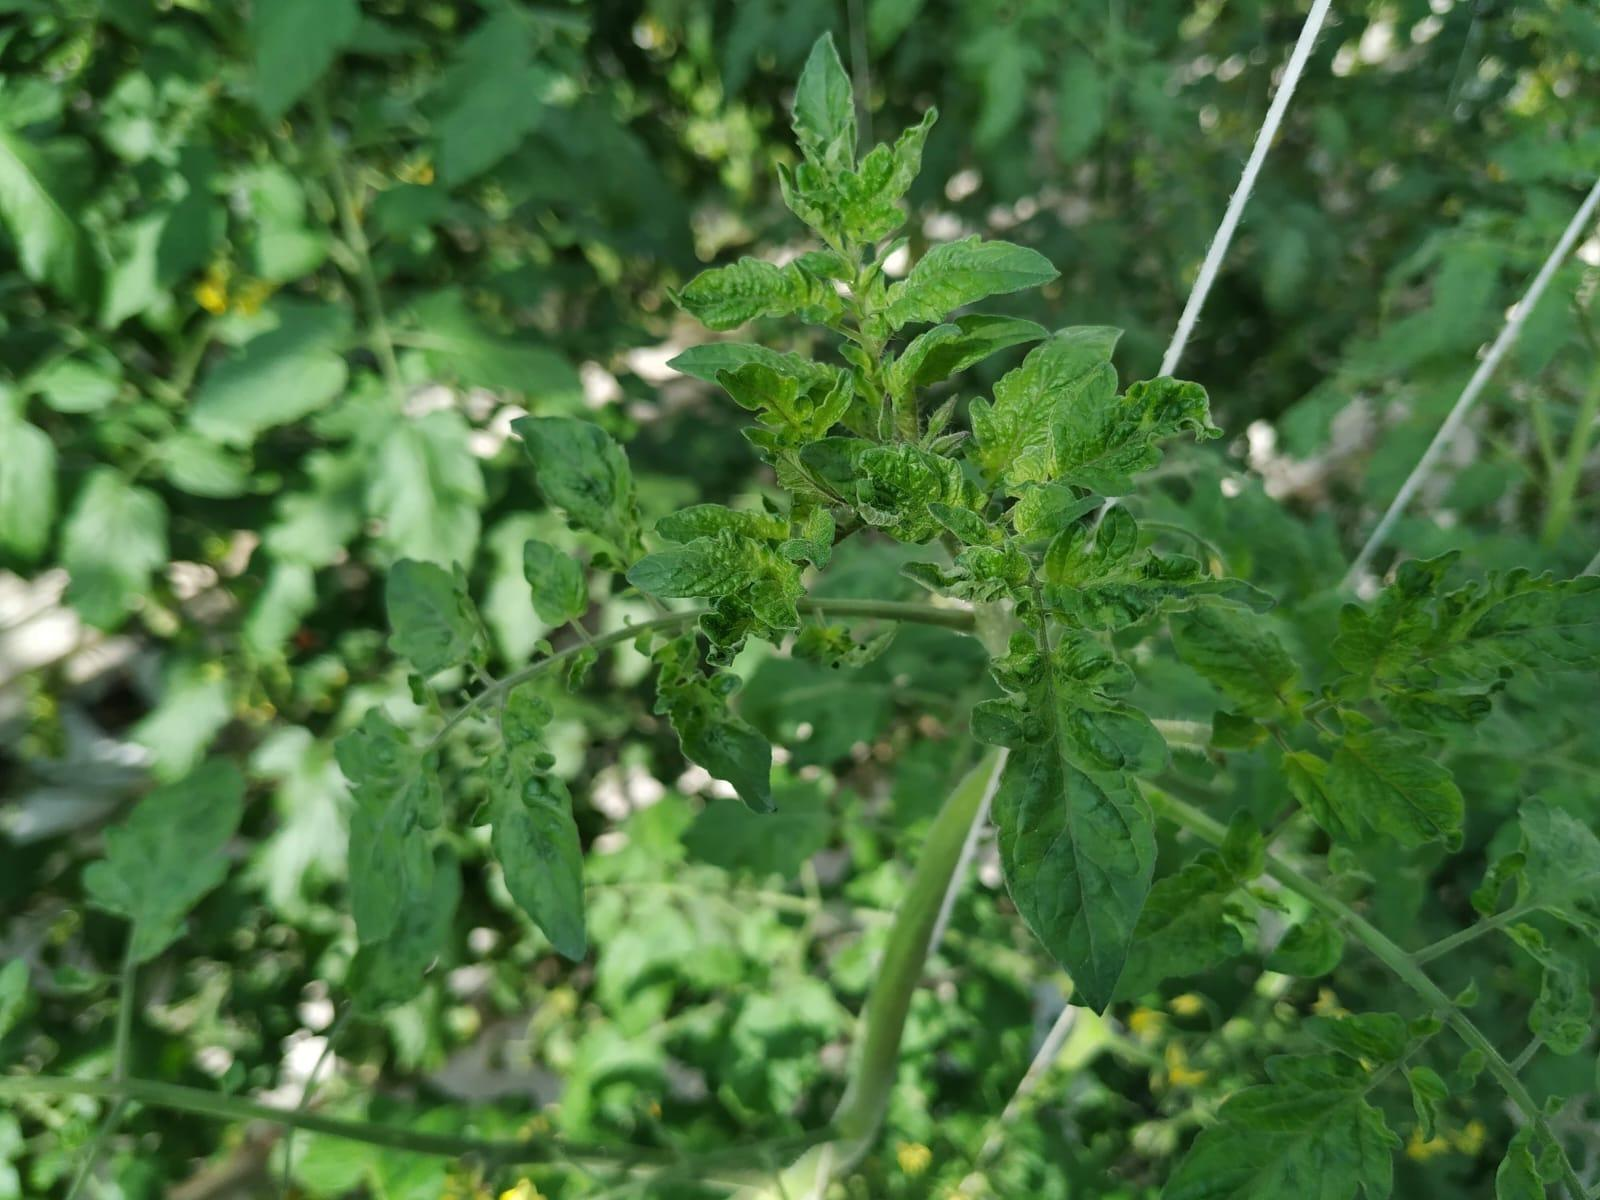Rugose leaf: (971, 630, 1167, 1016), (969, 325, 1212, 494), (884, 234, 1060, 328), (678, 256, 844, 328), (629, 531, 769, 599)
